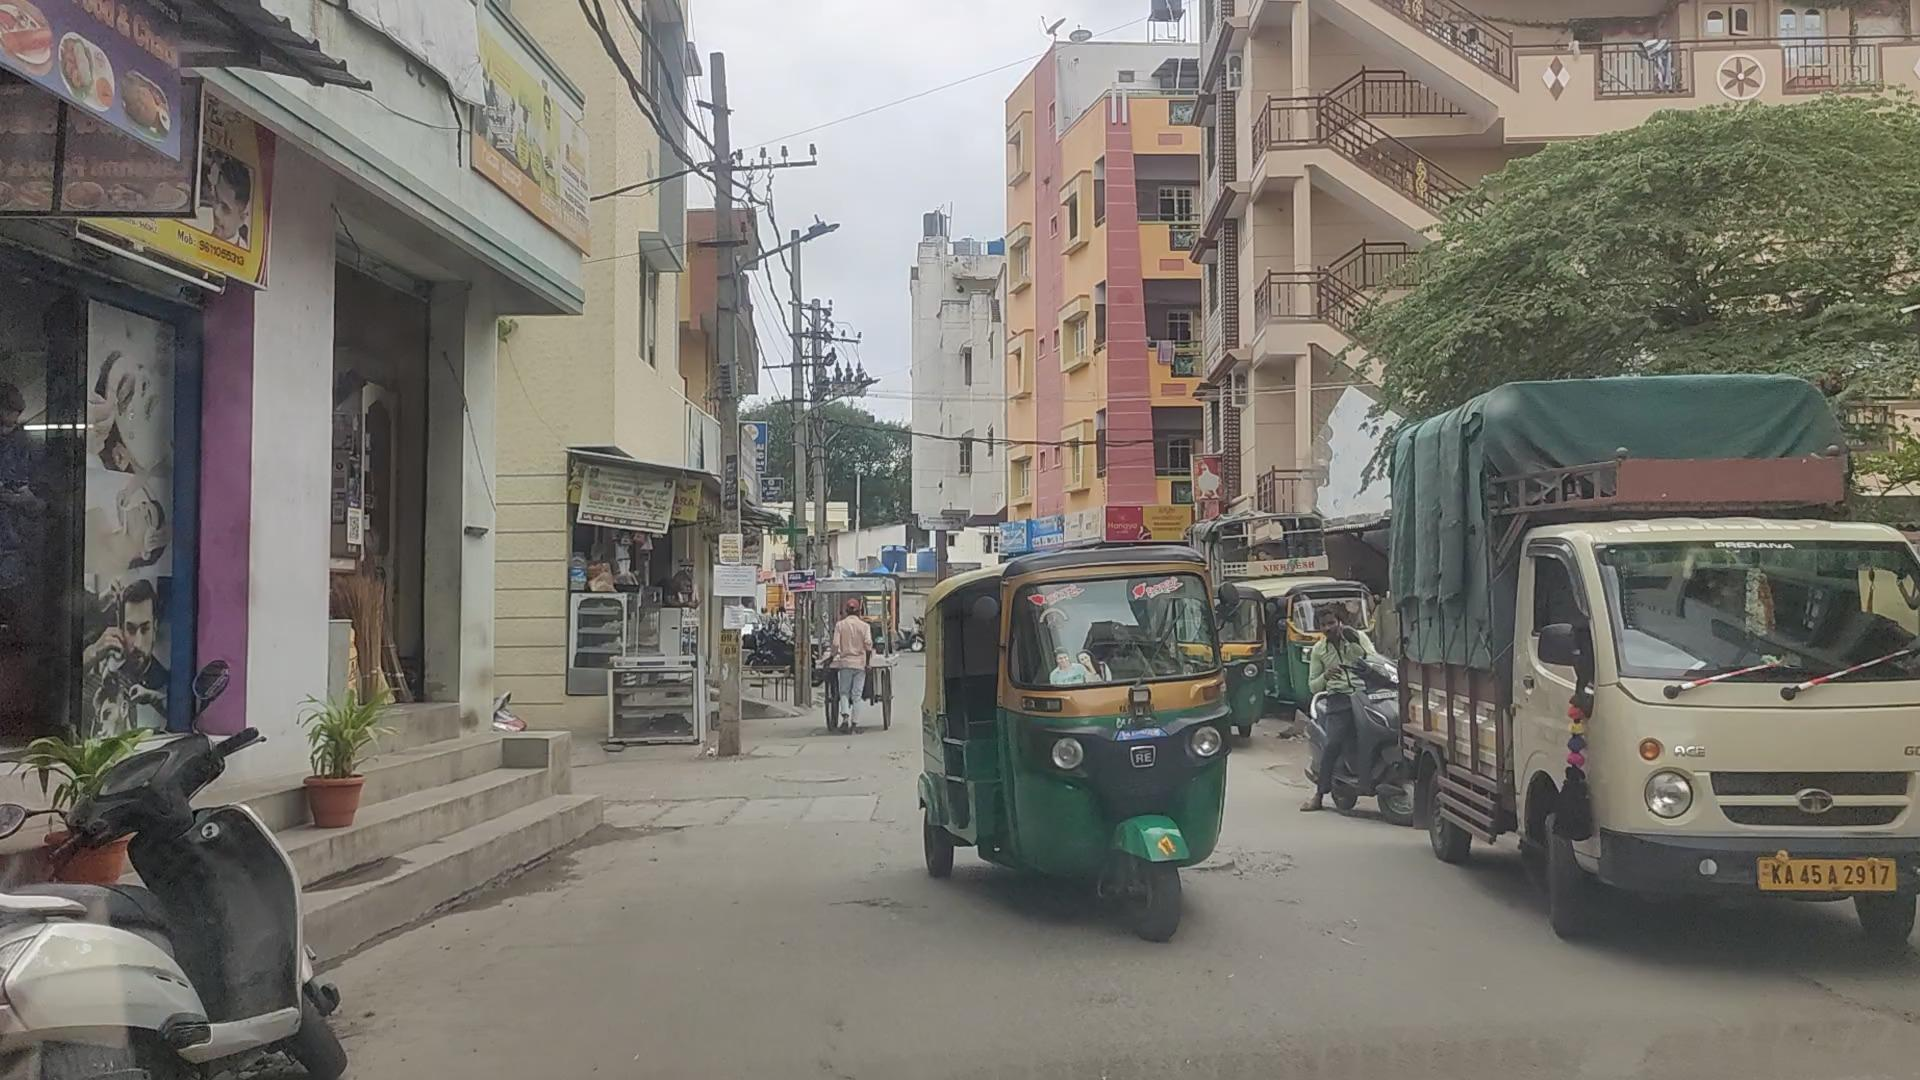HMV: (1371, 396, 1920, 910)
LMV: (915, 572, 1245, 951)
RoadDamages: (628, 785, 868, 840)
